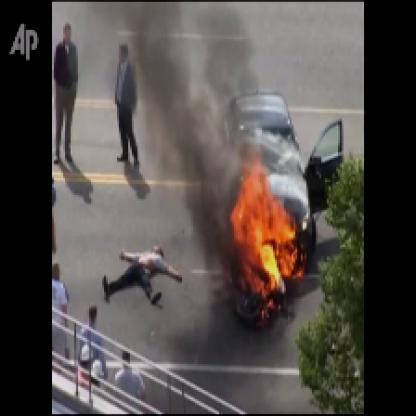Fire: (225, 141, 308, 310)
Smoke: (134, 2, 236, 278)
